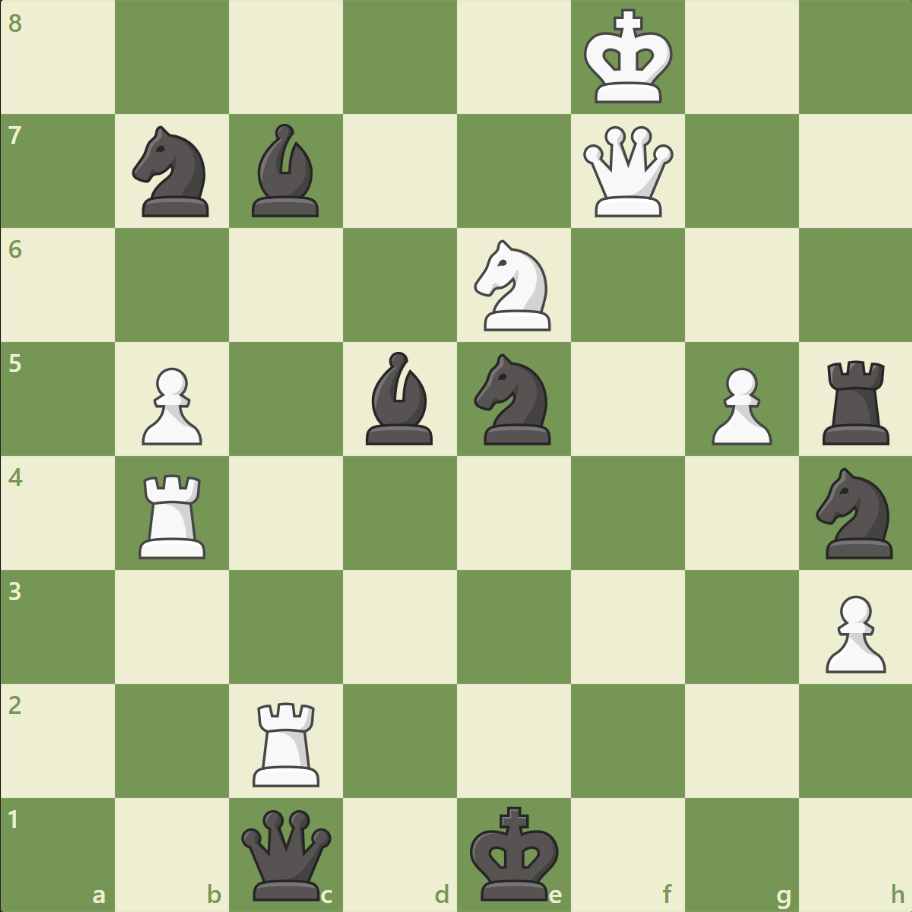K: (579, 4, 679, 112)
N: (465, 234, 562, 337)
P: (133, 359, 208, 450), (701, 359, 776, 450), (815, 586, 889, 677)
Q: (578, 122, 677, 222)
R: (246, 693, 329, 790), (133, 466, 215, 563)
b: (244, 120, 328, 222), (358, 347, 442, 449)
k: (465, 798, 565, 906)
n: (124, 121, 222, 223), (806, 461, 903, 564), (465, 348, 562, 450)
q: (237, 804, 336, 903)
r: (814, 352, 897, 449)
